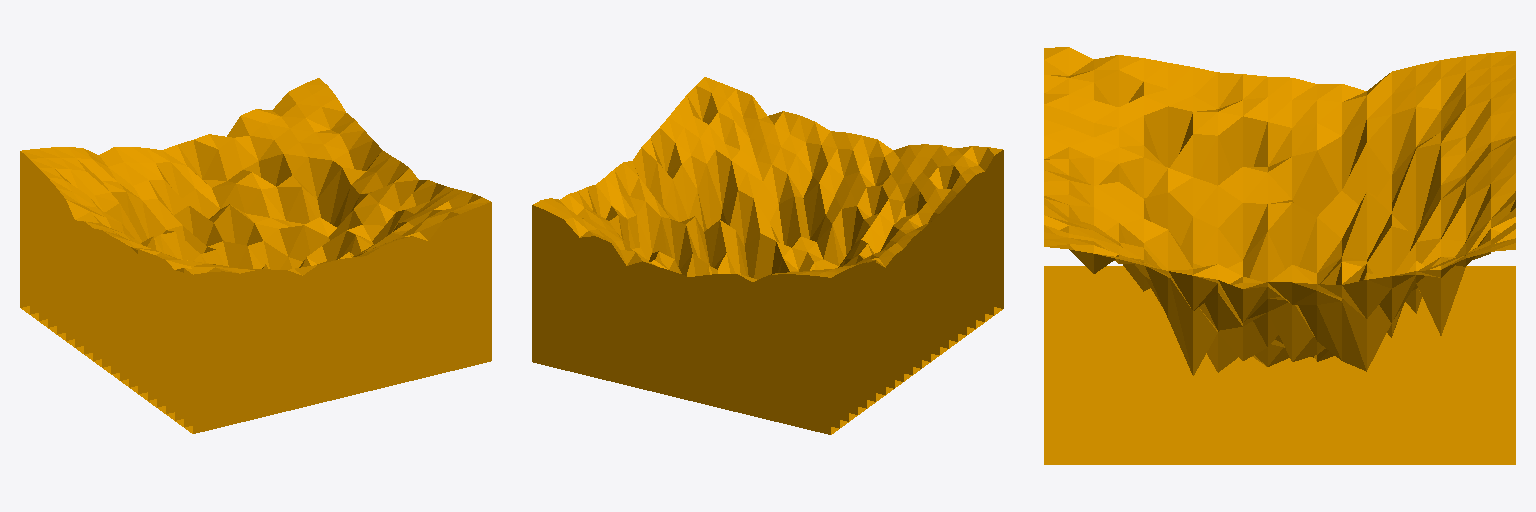
The robot description file, URDF, robot "mountain":
<?xml version="1.0"?>
<robot name="mountain">
  <link name="baseLink">
    <inertial>
      <origin xyz="0 0 0" rpy="0 0 0"/>
      <mass value="1"/>
      <inertia ixx="1" ixy="0" ixz="0" iyy="1" iyz="0" izz="1"/>
    </inertial>
    <visual>
      <origin xyz="0 0 0" rpy="0 0 0"/>
      <geometry>
        <mesh filename="valleys.obj" scale="1 1 1"/>
      </geometry>
    </visual>
    <collision>
      <origin xyz="0 0 0" rpy="0 0 0"/>
      <geometry>
        <mesh filename="valleys.obj" scale="1 1 1"/>
      </geometry>
    </collision>
  </link>
</robot>

--- Render facts (derived) ---
The picture shows the robot from 3 angles, left to right: view 1: azimuth 30°, elevation 25°; view 2: azimuth 150°, elevation 25°; view 3: azimuth 270°, elevation 25°; orthographic projection.
Model mountain with 1 links and 0 joints (none), rooted at baseLink, posed all joints at 0.
Links seen in each view (by area): view 1: baseLink; view 2: baseLink; view 3: baseLink.
Link boxes in pixels (bbox=[...]): baseLink: bbox=[20, 78, 491, 433]; baseLink: bbox=[532, 77, 1003, 434]; baseLink: bbox=[1044, 47, 1515, 464].
Size in the robot's own frame: 9.5 by 9.5 by 4.87 metres.
1 mesh visuals loaded from 1 distinct referenced files (1 OBJ).
